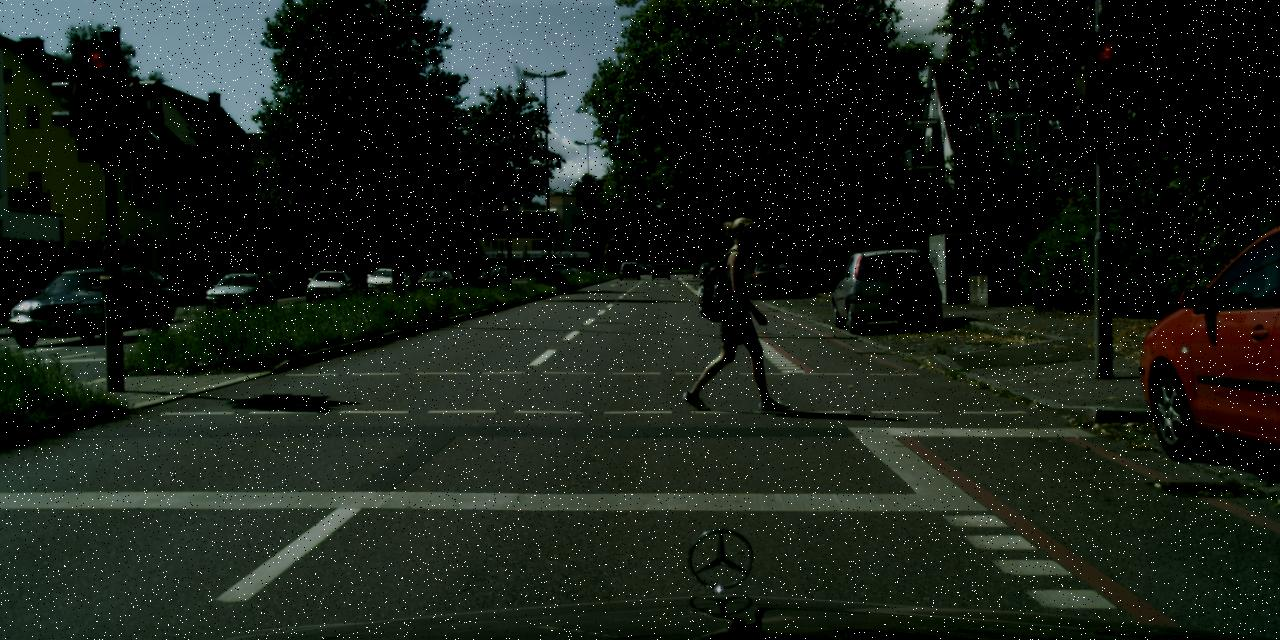ped: (700, 216, 778, 408), (224, 268, 238, 303), (691, 258, 698, 275)
